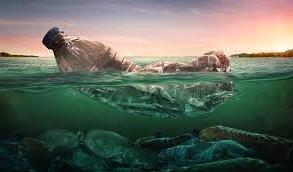Plastic: (30, 23, 261, 117)
